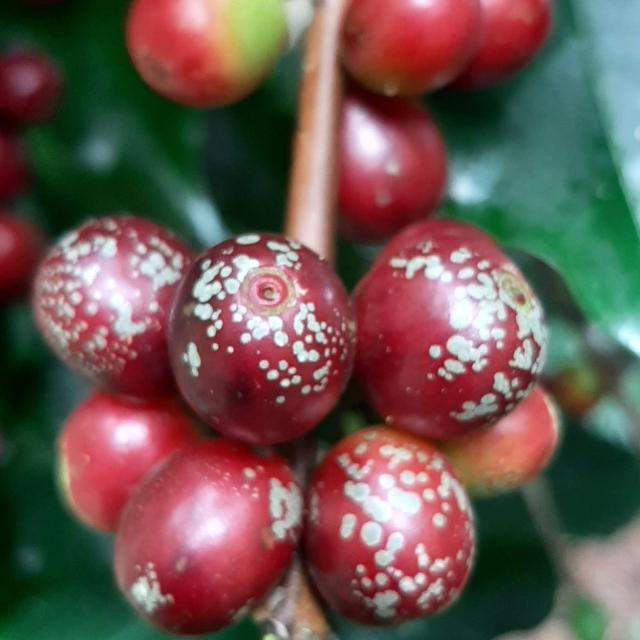red: (32, 216, 355, 445), (352, 220, 547, 440), (114, 439, 303, 637), (305, 427, 475, 626), (342, 0, 553, 95), (57, 393, 198, 534), (339, 83, 446, 242), (342, 0, 481, 95)
yellow: (126, 0, 287, 107), (438, 387, 560, 497)
